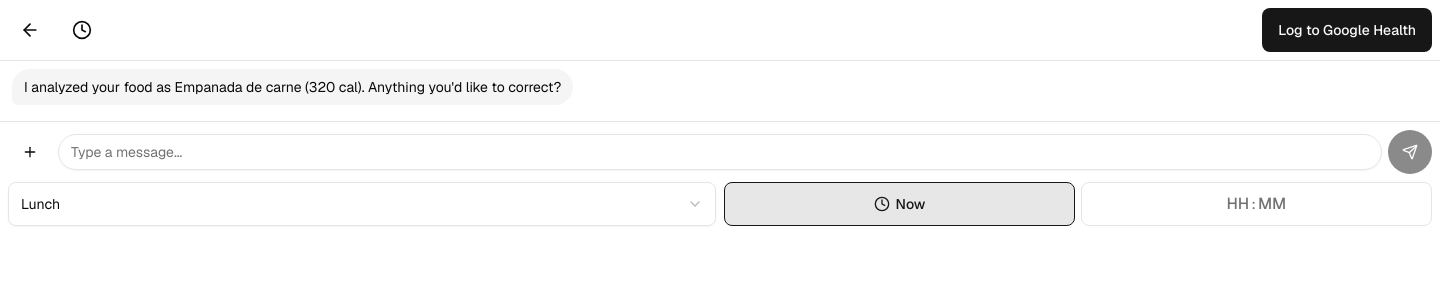
Scenario: FoodChat › plus button toggles inline photo menu
This screenshot has width=1440, height=295.
Click the button named "add photo" at (30,152), box [8,130,52,174]
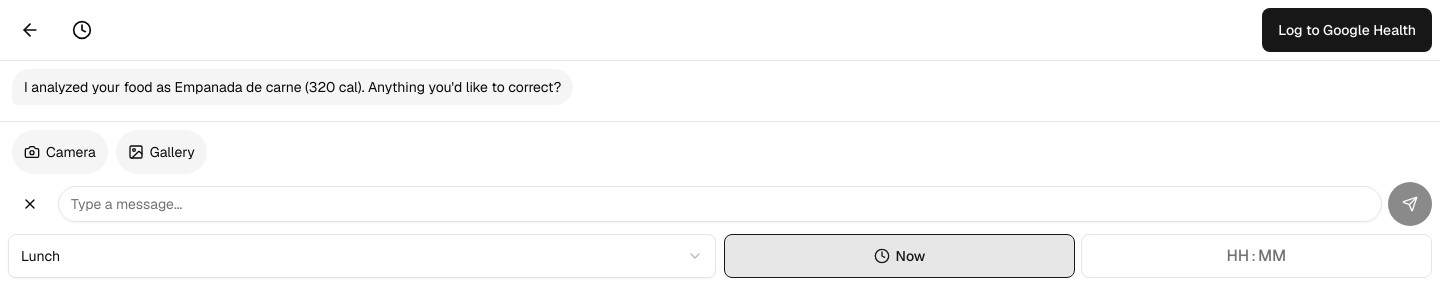
expect the element with test id "photo-menu" is shown: met, box [12,130,207,174]
expect the button with aria-label "take photo" is shown: met, box [12,130,108,174]
expect the button with aria-label "choose from gallery" is shown: met, box [116,130,207,174]
// Click again to close
Click the button named "add photo" at (30,204), box [8,182,52,226]
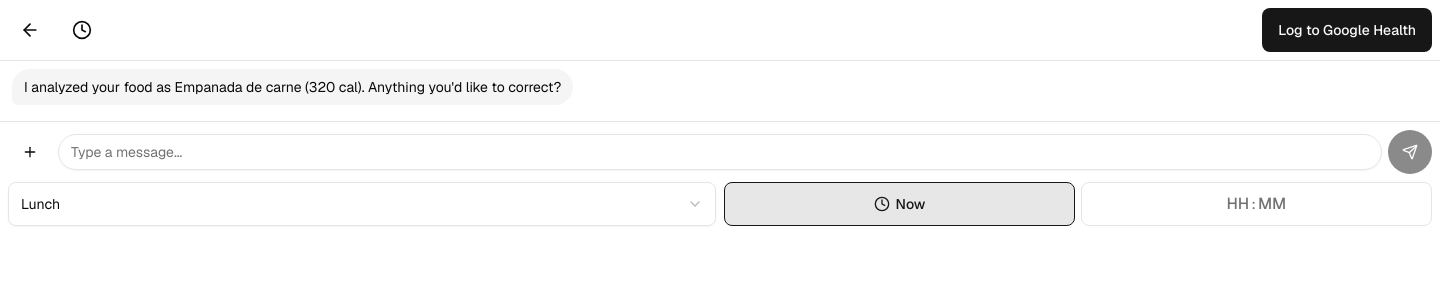
expect the element with test id "photo-menu" is gone: met
